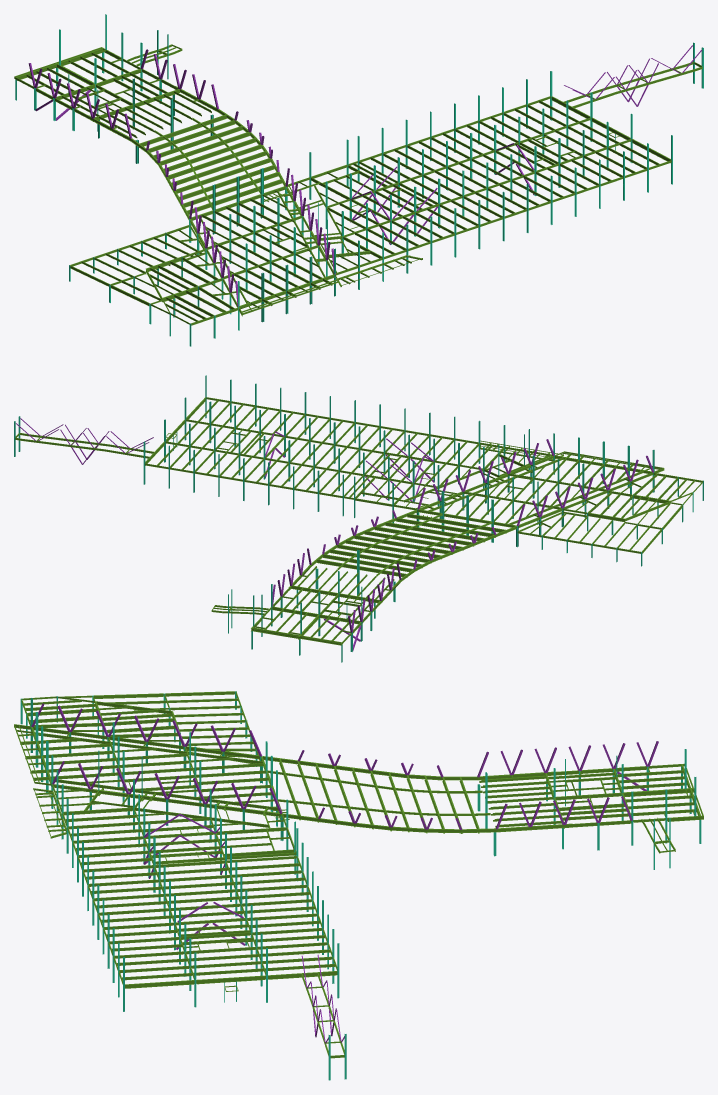
The model's file is TeklaTestLarge.obj.
3 views of the same model, one above another, from view 1: azimuth 30°, elevation 25°; view 2: azimuth 150°, elevation 25°; view 3: azimuth 270°, elevation 25° (orthographic). The views are drawn at different scales.
Bounding box in the file's own units: 6090 × 546 × 4812.
